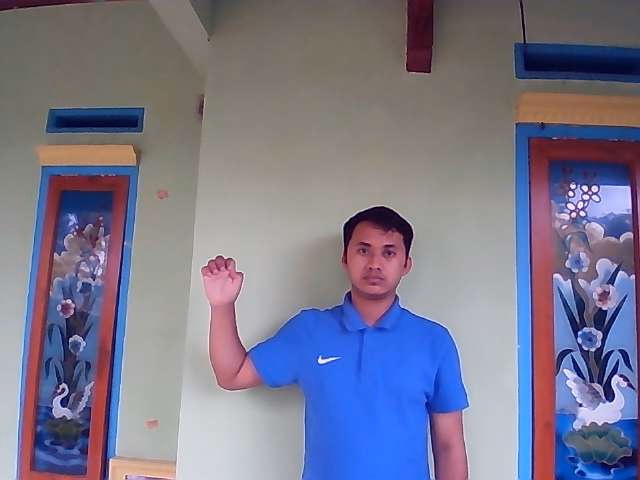E: (201, 254, 246, 304)
